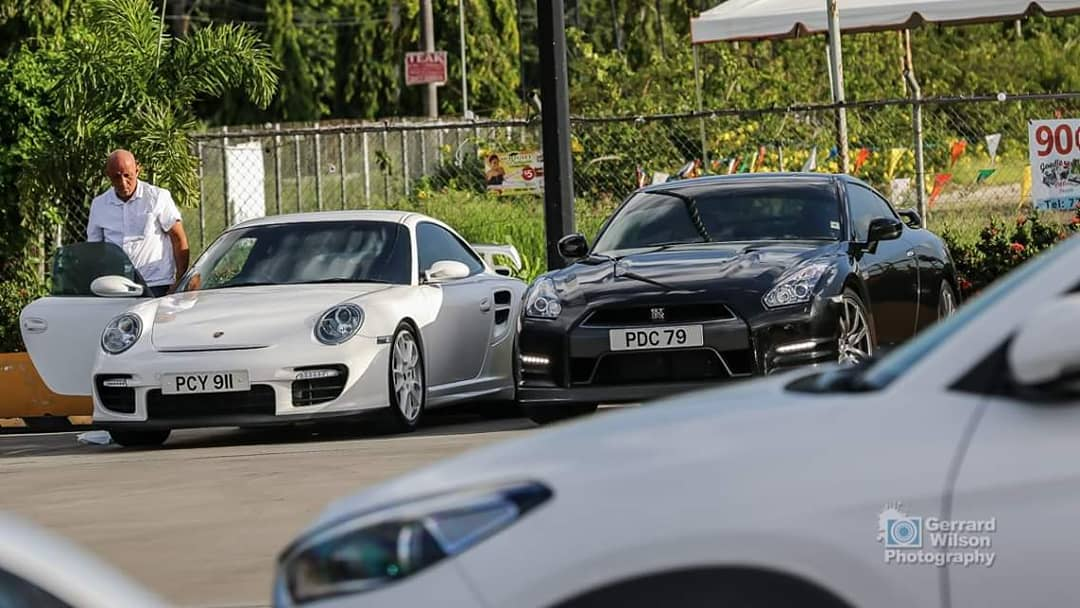License-Plate: (161, 374, 248, 395), (610, 330, 702, 349)
